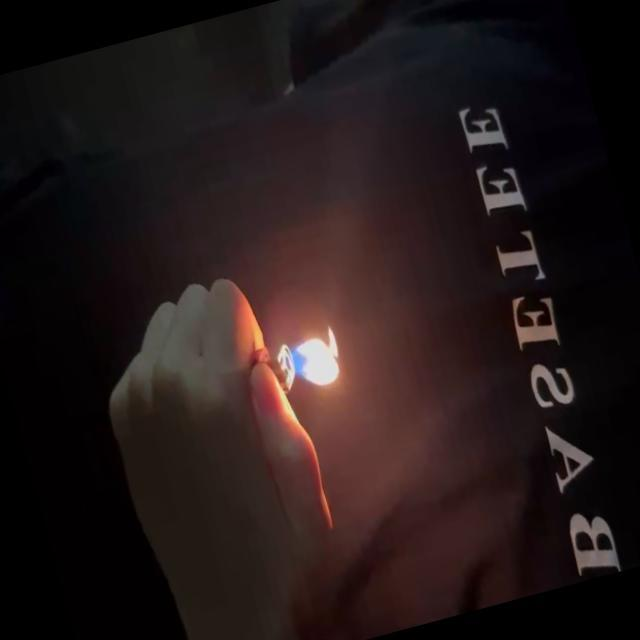Fire: (276, 314, 351, 399)
